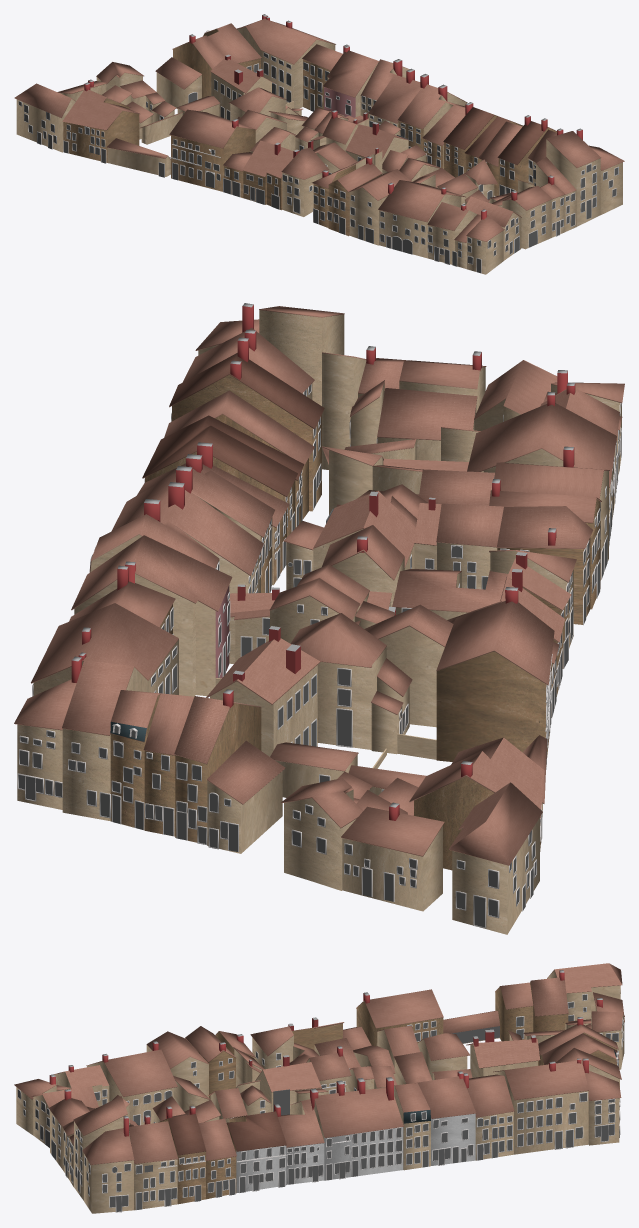
File: ilot42combine.fbx
3 views of the same model, one above another, from view 1: azimuth 30°, elevation 25°; view 2: azimuth 150°, elevation 25°; view 3: azimuth 270°, elevation 25° (orthographic). The views are drawn at different scales.
Parts seen in each view (by area): view 1: _ILOT42BAT40, _ILOT42BAT6, _ILOT42BAT2, _ILOT42BAT55, _ILOT42BAT16, _ILOT42BAT75, _ILOT42BAT1, _ILOT42BAT39, _ILOT42BAT53, _ILOT42BAT15, _ILOT42BAT10, _ILOT42BAT27 (+37 smaller); view 2: _ILOT42BAT55, _ILOT42BAT40, _ILOT42BAT6, _ILOT42BAT53, _ILOT42BAT1, _ILOT42BAT62, _ILOT42BAT5, _ILOT42BAT38, _ILOT42BAT56, _ILOT42BAT16, _ILOT42BAT60, _ILOT42BAT2 (+43 smaller); view 3: _ILOT42BAT40, _ILOT42BAT55, _ILOT42BAT39, _ILOT42BAT53, _ILOT42BAT74, _ILOT42BAT26, _ILOT42BAT2, _ILOT42BAT16, _ILOT42BAT6, _ILOT42BAT54, _ILOT42BAT27, _ILOT42BAT1 (+37 smaller).
Part boxes in pixels (<box>): _ILOT42BAT40: <box>360,59,473,168</box>; _ILOT42BAT6: <box>169,109,255,191</box>; _ILOT42BAT2: <box>62,82,139,163</box>; _ILOT42BAT55: <box>236,16,335,108</box>; _ILOT42BAT16: <box>378,180,465,258</box>; _ILOT42BAT75: <box>546,131,601,226</box>; _ILOT42BAT1: <box>14,83,75,152</box>; _ILOT42BAT39: <box>443,107,522,177</box>; _ILOT42BAT53: <box>322,45,378,117</box>; _ILOT42BAT15: <box>349,169,411,245</box>; _ILOT42BAT10: <box>281,147,328,216</box>; _ILOT42BAT27: <box>497,115,556,195</box>; _ILOT42BAT55: <box>31,603,178,821</box>; _ILOT42BAT40: <box>89,442,289,593</box>; _ILOT42BAT6: <box>436,587,554,769</box>; _ILOT42BAT53: <box>71,535,232,696</box>; _ILOT42BAT1: <box>448,782,542,934</box>; _ILOT42BAT62: <box>110,690,194,836</box>; _ILOT42BAT5: <box>341,802,444,911</box>; _ILOT42BAT38: <box>290,613,386,749</box>; _ILOT42BAT56: <box>206,626,320,756</box>; _ILOT42BAT16: <box>467,392,616,546</box>; _ILOT42BAT60: <box>174,689,261,844</box>; _ILOT42BAT2: <box>409,737,544,870</box>; _ILOT42BAT40: <box>274,1077,430,1184</box>; _ILOT42BAT55: <box>493,1048,621,1154</box>; _ILOT42BAT39: <box>226,1111,286,1193</box>; _ILOT42BAT53: <box>415,1071,476,1165</box>; _ILOT42BAT74: <box>82,1116,134,1213</box>; _ILOT42BAT26: <box>129,1114,178,1210</box>; _ILOT42BAT2: <box>495,970,568,1041</box>; _ILOT42BAT16: <box>86,1049,177,1125</box>; _ILOT42BAT6: <box>356,989,443,1046</box>; _ILOT42BAT54: <box>463,1073,514,1160</box>; _ILOT42BAT27: <box>158,1105,206,1204</box>; _ILOT42BAT1: <box>547,963,622,1021</box>.
Size of the model in its own units: 17.42 by 3.48 by 21.28.
